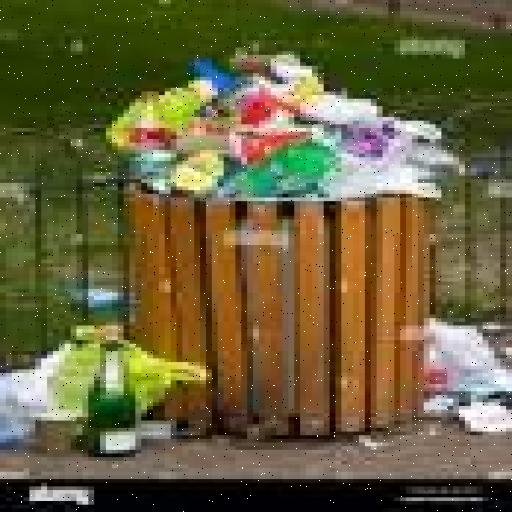poubelle_vide: (76, 37, 472, 446)
